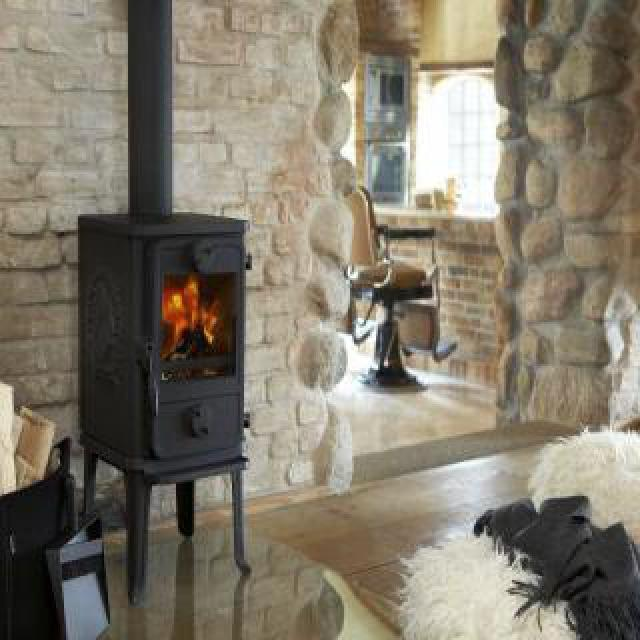Fire: (170, 276, 220, 360)
